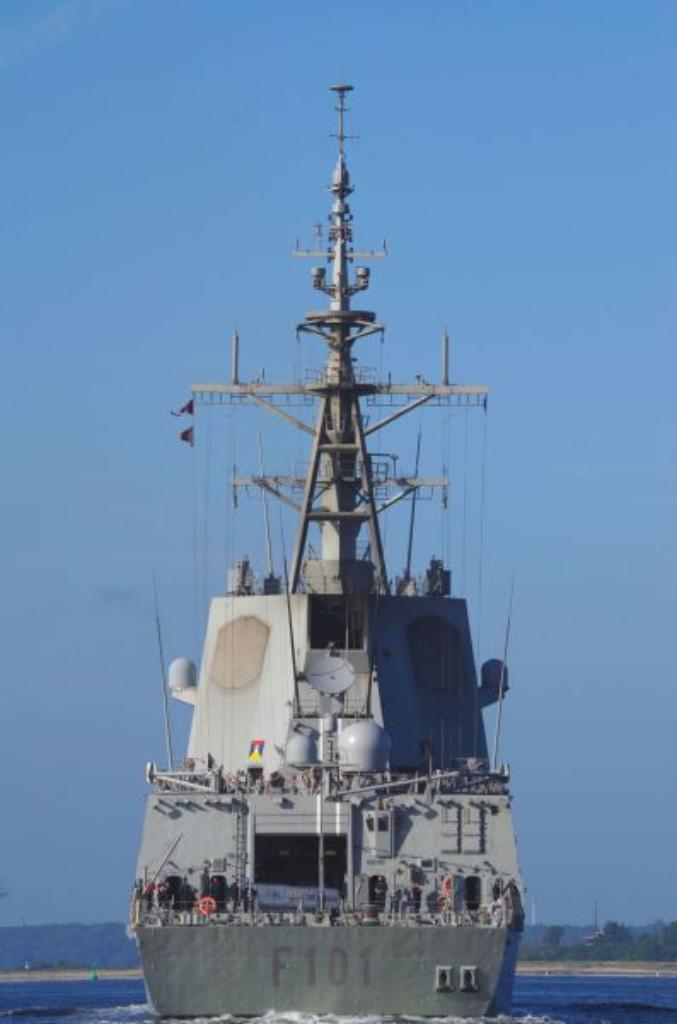Warship: (108, 38, 532, 1018)
